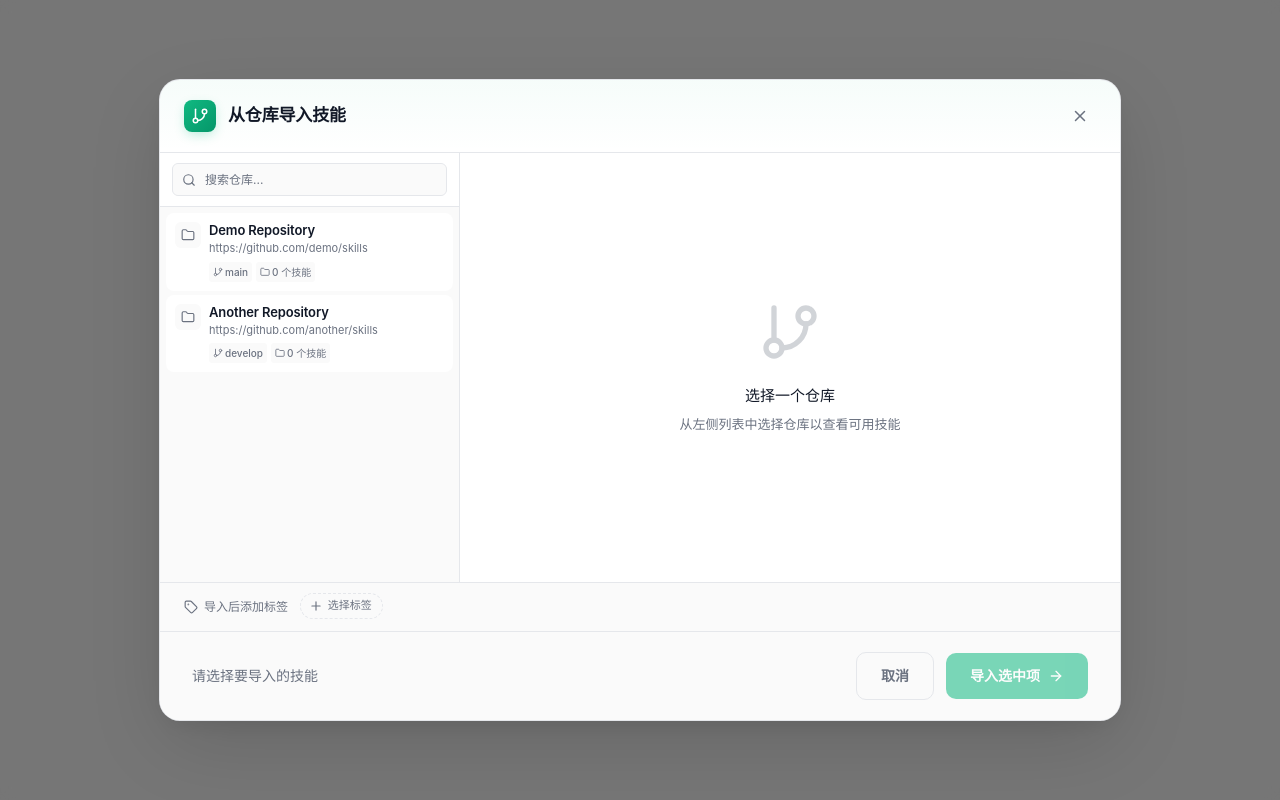
Test case: RepositorySelectDialog › loads skills when repository is selected
Click the button "Demo Repository https://github.com/demo/skills main 0 个技能" at (310, 252), box [166,213,453,291]
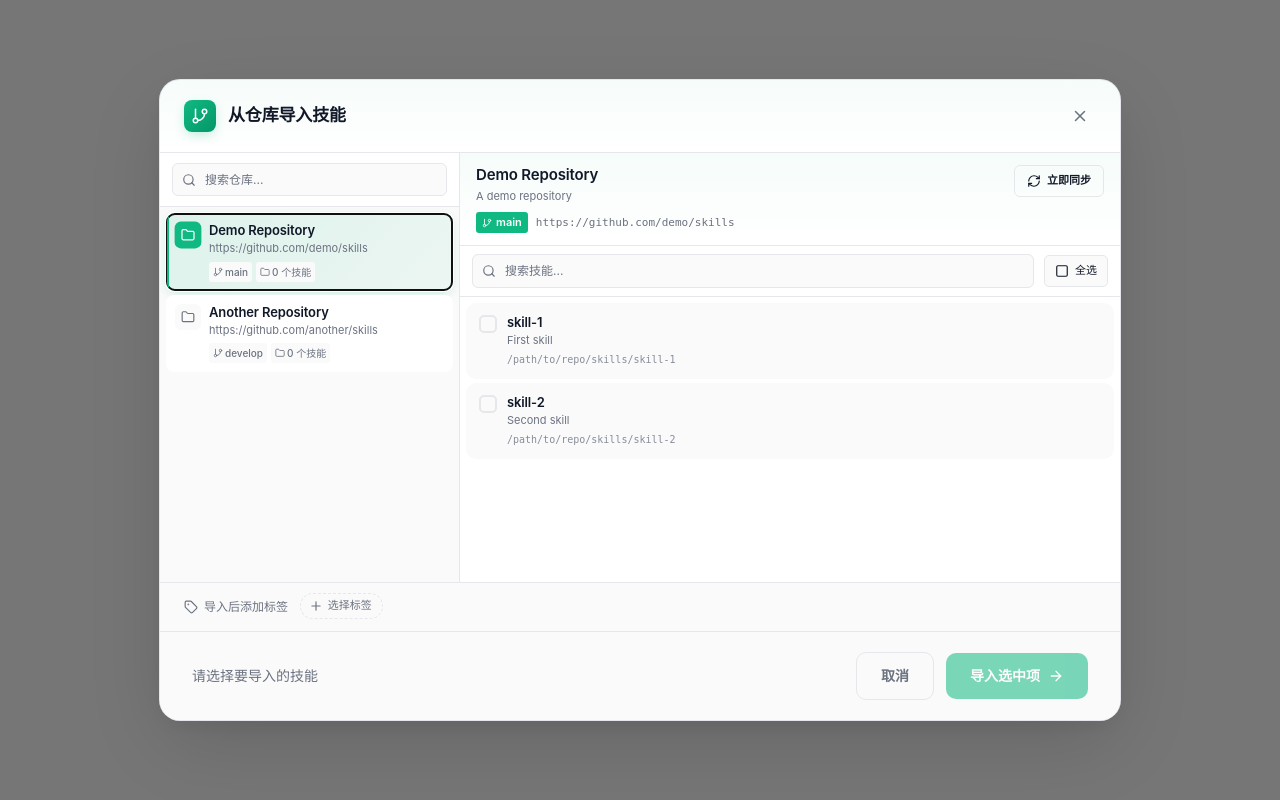
Result: the button "skill-1 First skill /path/to/repo/skills/skill-1" is shown at [466,303,1114,379]
Result: the button "skill-2 Second skill /path/to/repo/skills/skill-2" is shown at [466,383,1114,459]
